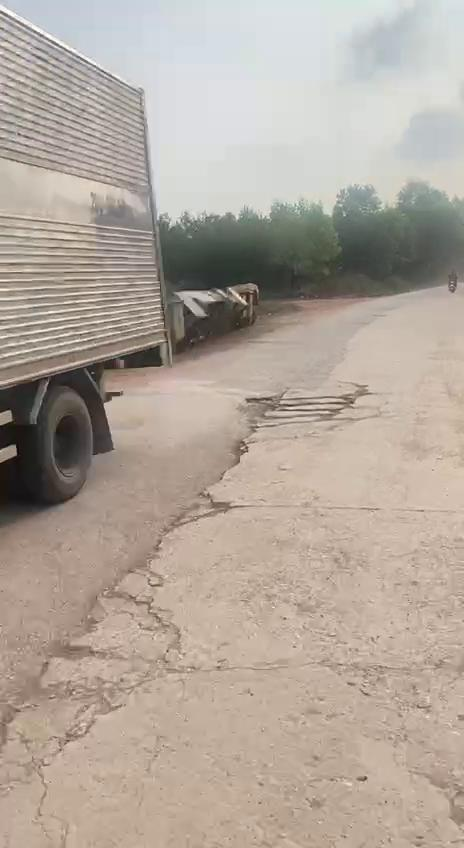pothole: (0, 633, 96, 737), (166, 484, 232, 534)
